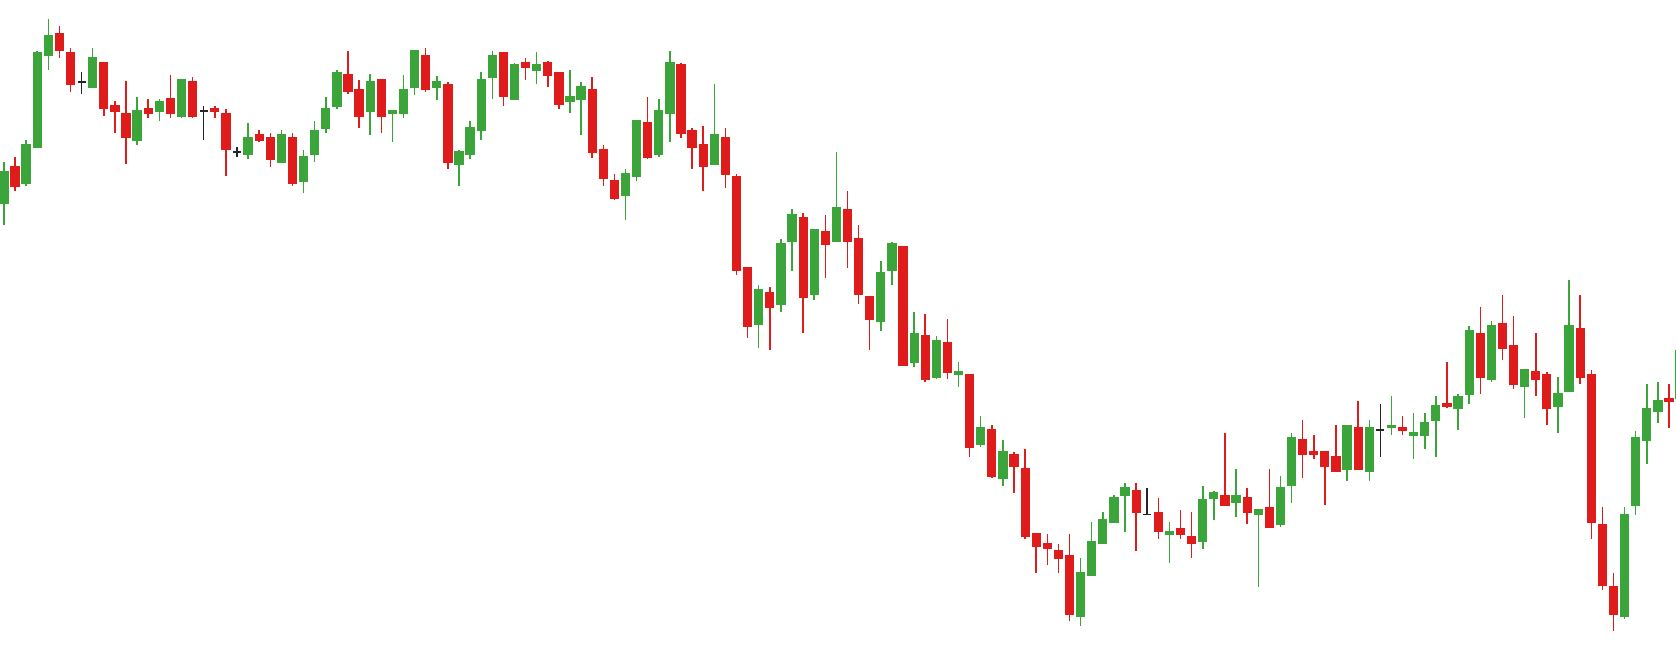buy: (385, 94, 477, 186), (1166, 502, 1264, 583), (216, 120, 310, 198)
sell: (564, 42, 686, 165), (1493, 275, 1585, 399)
